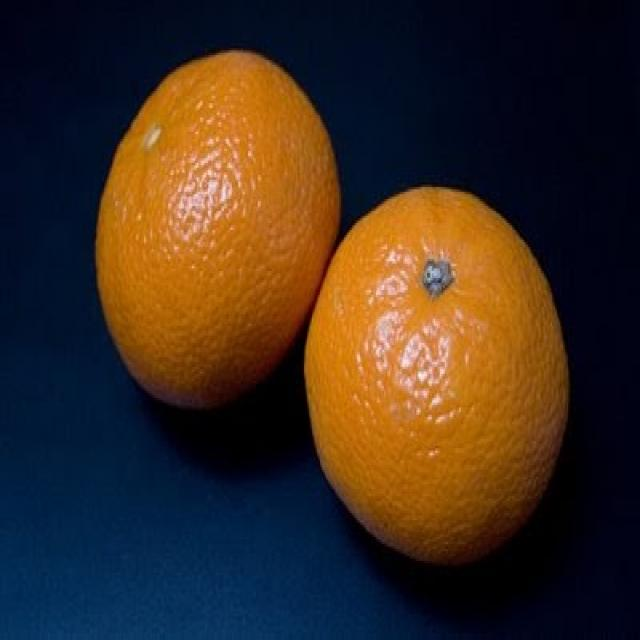Orange: (303, 179, 570, 563), (98, 48, 339, 414)
